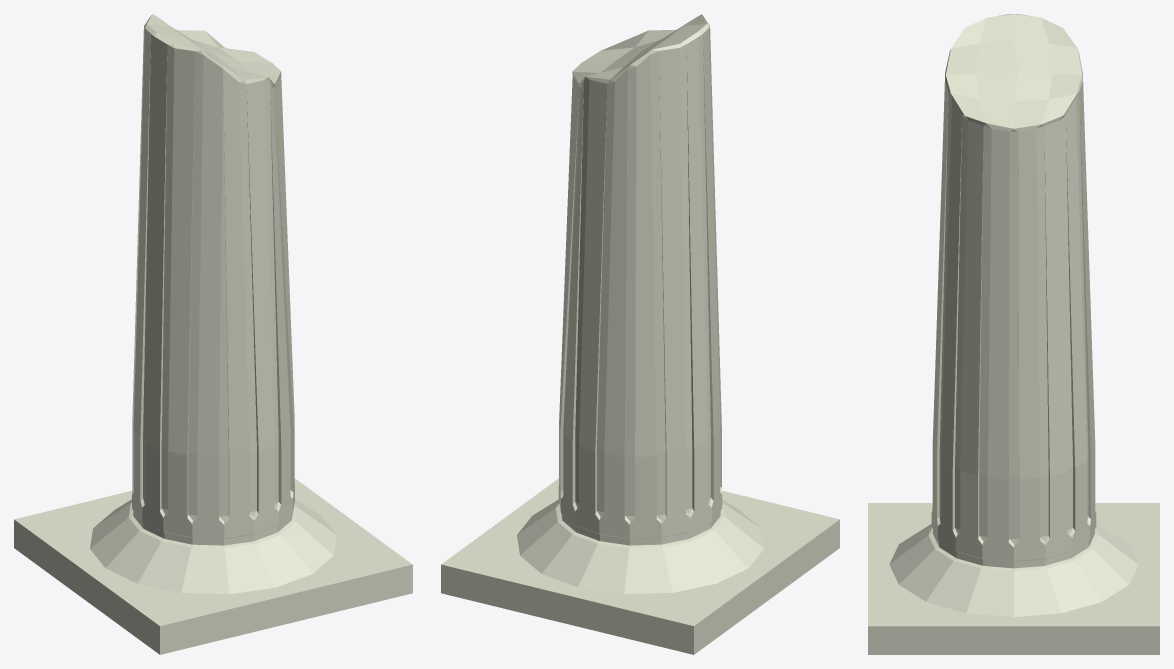
File: greek_pillar_broken_1.fbx
The picture shows the model from 3 angles, left to right: view 1: azimuth 30°, elevation 25°; view 2: azimuth 150°, elevation 25°; view 3: azimuth 270°, elevation 25°; orthographic projection.
Visible parts, largest first — view 1: Cube; view 2: Cube; view 3: Cube.
Part boxes in pixels (x1=…): Cube: x1=14, y1=14, x2=412, y2=654; Cube: x1=441, y1=14, x2=839, y2=654; Cube: x1=868, y1=14, x2=1159, y2=654.
Bounding box in the file's own units: 160 × 335 × 160.
